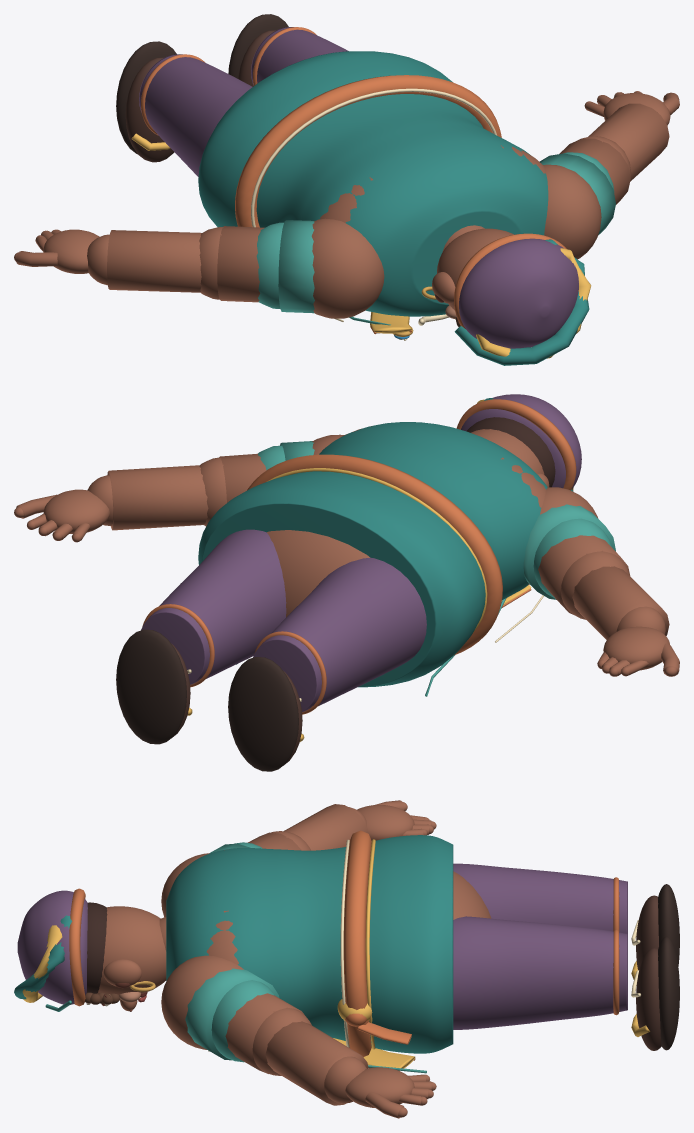
3 renders of one model, top to bottom at view 1: azimuth 30°, elevation 25°; view 2: azimuth 150°, elevation 25°; view 3: azimuth 270°, elevation 25°, orthographic. The views are drawn at different scales.
Visible parts, largest first — view 1: Tunic, Arms, Headwrap, Trousers, Tunic Sleeves, Waist Wrap, Footwear, Hands, Textile Details, Face, Body, Woven Sash; view 2: Tunic, Trousers, Arms, Footwear, Hands, Waist Wrap, Body, Headwrap, Tunic Sleeves, Textile Details, Hair, Face; view 3: Tunic, Trousers, Arms, Headwrap, Footwear, Waist Wrap, Face, Hands, Tunic Sleeves, Textile Details, Body, Hair (+1 smaller).
Part boxes in pixels (x1,y1,x2,y2): Tunic: [198, 51, 548, 316]; Arms: [87, 103, 669, 318]; Headwrap: [454, 233, 591, 365]; Trousers: [139, 27, 348, 176]; Tunic Sleeves: [256, 152, 615, 313]; Waist Wrap: [235, 75, 501, 227]; Footwear: [116, 14, 288, 162]; Hands: [14, 91, 679, 273]; Textile Details: [141, 27, 497, 334]; Face: [432, 228, 513, 319]; Body: [320, 145, 546, 251]; Woven Sash: [370, 312, 412, 333]; Tunic: [198, 422, 547, 687]; Trousers: [141, 529, 426, 712]; Arms: [87, 434, 669, 639]; Footwear: [116, 629, 304, 771]; Hands: [14, 489, 679, 676]; Waist Wrap: [247, 454, 502, 655]; Body: [267, 426, 545, 617]; Headwrap: [456, 394, 581, 491]; Tunic Sleeves: [258, 441, 615, 599]; Textile Details: [142, 468, 543, 714]; Hair: [466, 417, 555, 487]; Face: [471, 429, 549, 487]; Tunic: [166, 835, 453, 1053]; Trousers: [453, 863, 627, 1029]; Arms: [161, 804, 368, 1105]; Headwrap: [14, 888, 87, 1011]; Footwear: [631, 884, 679, 1050]; Waist Wrap: [337, 830, 411, 1056]; Face: [97, 906, 166, 1011]; Hands: [345, 800, 436, 1118]; Tunic Sleeves: [185, 842, 279, 1062]; Textile Details: [208, 839, 619, 1073]; Body: [159, 850, 491, 964]; Hair: [84, 902, 119, 1006].
Bounding box in the file's own units: 2.19 × 0.6298 × 1.98.
